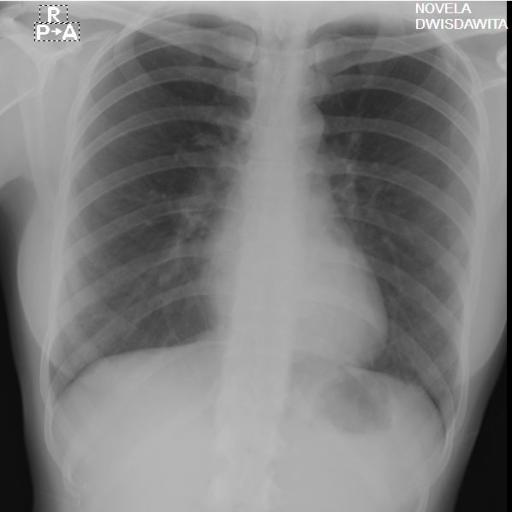normal: (41, 0, 487, 456)
